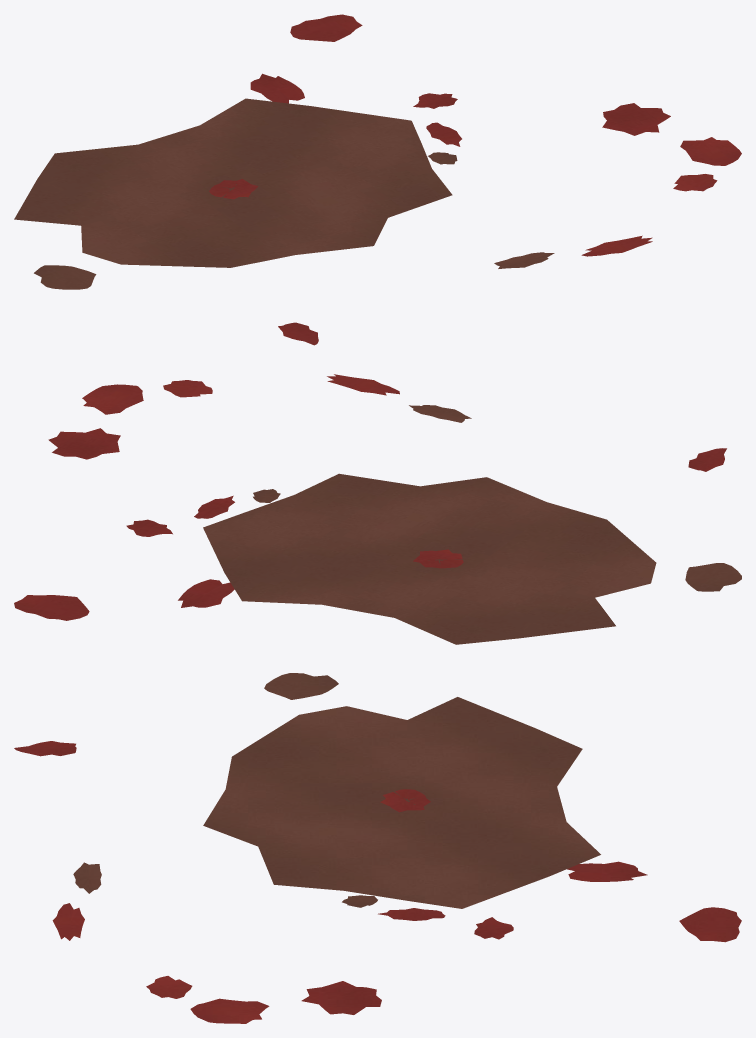
The model's file is blood_small_pool.glb.
The picture shows the model from 3 angles, top to bottom: view 1: azimuth 30°, elevation 25°; view 2: azimuth 150°, elevation 25°; view 3: azimuth 270°, elevation 25°; orthographic projection. The views are drawn at different scales.
Visible parts, largest first — view 1: blood_small_pool; view 2: blood_small_pool; view 3: blood_small_pool.
Boxes of the visible parts, x1,y1,x2,y2 form: blood_small_pool: (14, 14, 741, 345); blood_small_pool: (14, 374, 741, 644); blood_small_pool: (14, 673, 741, 1023).
Bounding box in the file's own units: 0.9779 × 0.0003 × 0.8574.
Materials: 2 (2 with a texture image).
